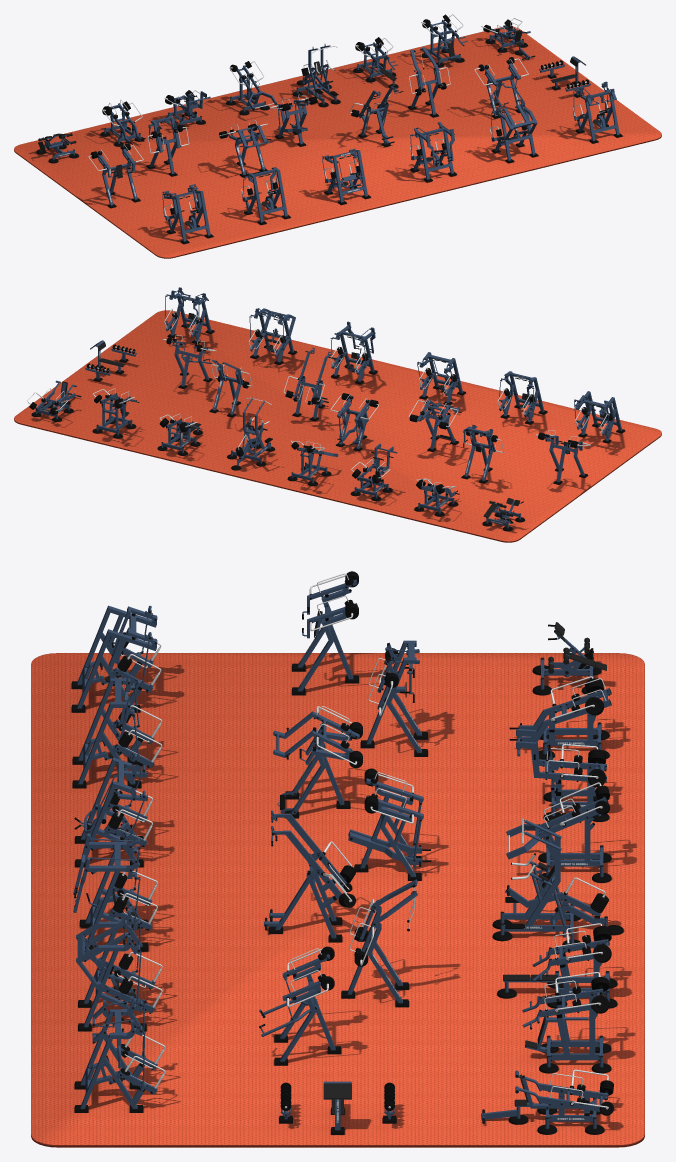
Rendered from orange.glb.
3 views of the same model, one above another, from view 1: azimuth 30°, elevation 25°; view 2: azimuth 150°, elevation 25°; view 3: azimuth 270°, elevation 25° (orthographic). The views are drawn at different scales.
Visible parts, largest first — view 1: Cube, Element_2.015, Element_2.053, Element_2.039, Element_2.113, Element_2.024, Element_2.119, Blue metal.002, blue_metal.021, blue_metal.012, Corpus, Element_2.002 (+8 smaller); view 2: Cube, Element_2.015, Element_2.053, Element_2.119, Element_2.024, Element_2.113, Element_2.039, Blue metal.002, blue_metal.021, Corpus, blue_metal.012, Element_2.096 (+11 smaller); view 3: Cube, Element_2.015, Blue metal.002, Element_2.053, Element_2.113, Element_2.039, Element_2.024, accent.035, Corpus, Element_2.119, accent.017, blue_metal.021 (+26 smaller).
Part boxes in pixels (box(x1,y1,x2,y2)): Cube: box(14, 26, 661, 258); Element_2.015: box(164, 188, 210, 241); Element_2.053: box(494, 104, 537, 160); Element_2.039: box(245, 167, 287, 222); Element_2.113: box(577, 86, 619, 140); Element_2.024: box(413, 125, 454, 179); Element_2.119: box(327, 150, 367, 202); Blue metal.002: box(296, 44, 336, 104); blue_metal.021: box(149, 116, 176, 173); blue_metal.012: box(98, 149, 137, 205); Corpus: box(425, 23, 460, 64); Element_2.002: box(228, 129, 265, 174); Cube: box(14, 310, 661, 542); Element_2.015: box(575, 391, 622, 440); Element_2.053: box(253, 308, 295, 362); Element_2.119: box(422, 352, 462, 402); Element_2.024: box(334, 326, 374, 381); Element_2.113: box(169, 290, 211, 341); Element_2.039: box(502, 371, 544, 421); Blue metal.002: box(231, 398, 270, 463); blue_metal.021: box(464, 426, 493, 480); Corpus: box(96, 400, 132, 435); blue_metal.012: box(545, 437, 584, 481); Element_2.096: box(212, 365, 241, 414); Cube: box(31, 653, 644, 1147); Element_2.015: box(77, 605, 157, 708); Blue metal.002: box(500, 819, 574, 943); Element_2.053: box(76, 916, 140, 1027); Element_2.113: box(80, 1005, 143, 1108); Element_2.039: box(78, 678, 141, 784); Element_2.024: box(84, 842, 142, 946); accent.035: box(348, 778, 423, 868); Corpus: box(525, 993, 603, 1067); Element_2.119: box(81, 757, 136, 863); accent.017: box(86, 911, 156, 1012); blue_metal.021: box(366, 640, 421, 752).
Size of what is drawn, in the model's own units: 23.37 by 2.54 by 12.32.
Materials: 160 (30 with a texture image).
